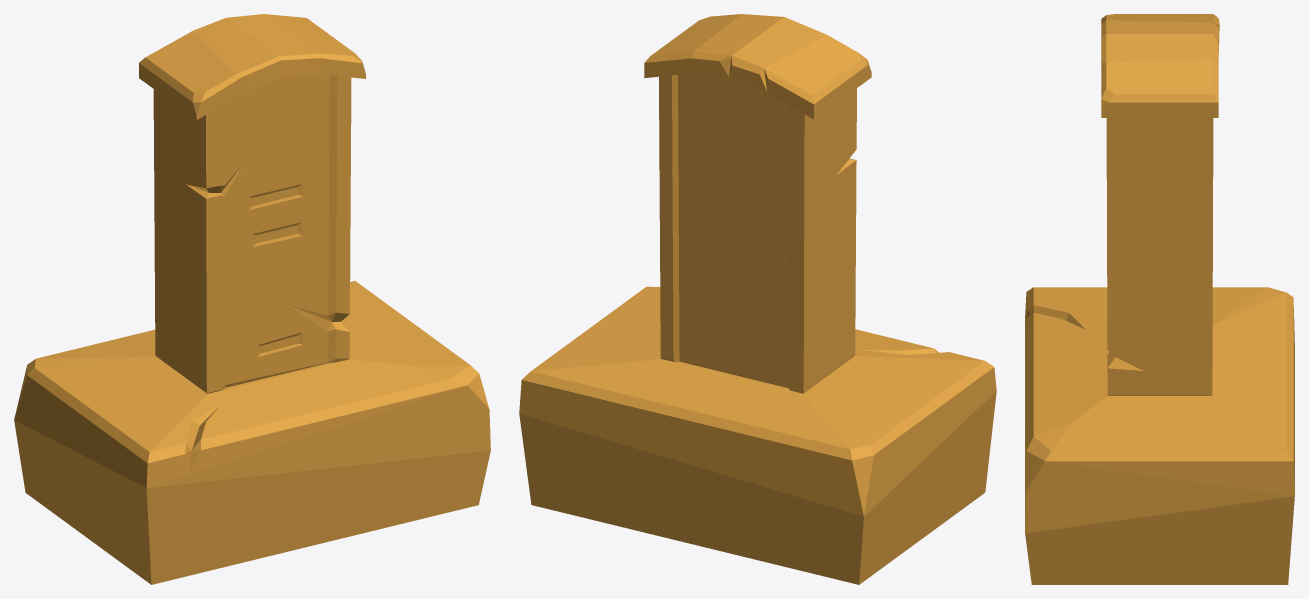
Rendered from gravestone-old-small-c.fbx.
3 views of the same model, side by side, from view 1: azimuth 30°, elevation 25°; view 2: azimuth 150°, elevation 25°; view 3: azimuth 270°, elevation 25° (orthographic).
Parts seen in each view (by area): view 1: gravestone-old-small-c; view 2: gravestone-old-small-c; view 3: gravestone-old-small-c.
Boxes of the visible parts, box(x1,y1,x2,y2) form: gravestone-old-small-c: box(14, 14, 490, 584); gravestone-old-small-c: box(519, 14, 996, 584); gravestone-old-small-c: box(1025, 14, 1294, 584).
Size of the model in its own units: 0.6059 by 0.7766 by 0.404.
